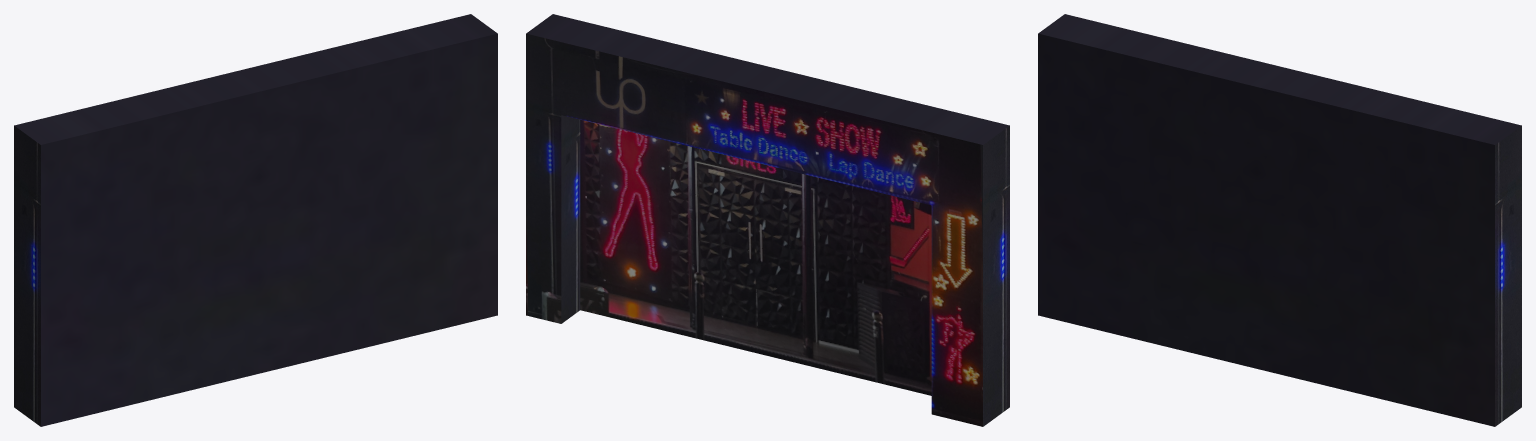
Rendered from Shop11.fbx.
3 renders of one model, left to right at view 1: azimuth 30°, elevation 25°; view 2: azimuth 150°, elevation 25°; view 3: azimuth 330°, elevation 25°, orthographic.
Parts seen in each view (by area): view 1: Cube; view 2: Cube; view 3: Cube.
Part boxes in pixels (x1=…): Cube: x1=14, y1=14, x2=497, y2=426; Cube: x1=526, y1=14, x2=1009, y2=426; Cube: x1=1038, y1=14, x2=1521, y2=426.
Size of the model in its own units: 6.1 by 0.6187 by 3.6.
1 material, 1 textured.
